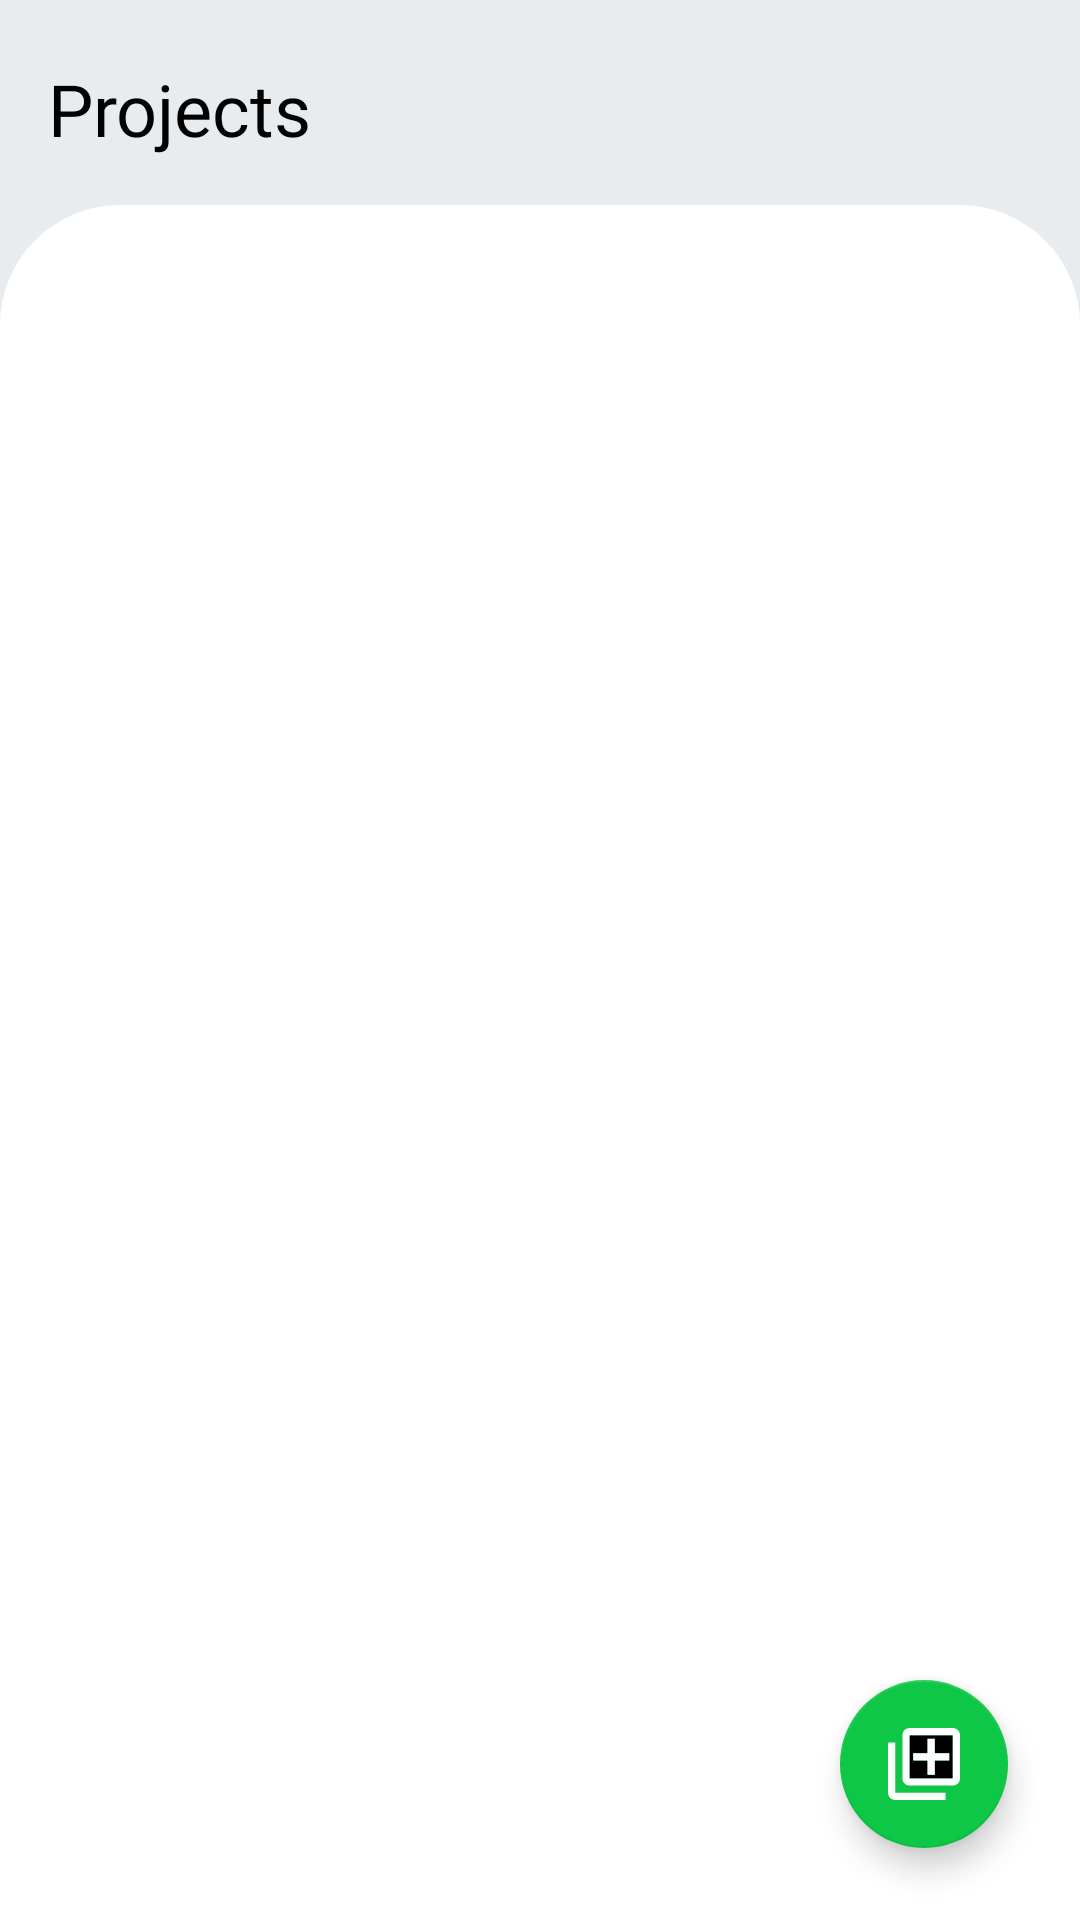

Screen size 1080*1920. Icon name, then its center in pixels as point (x, y):
add project: point (924, 1764)
